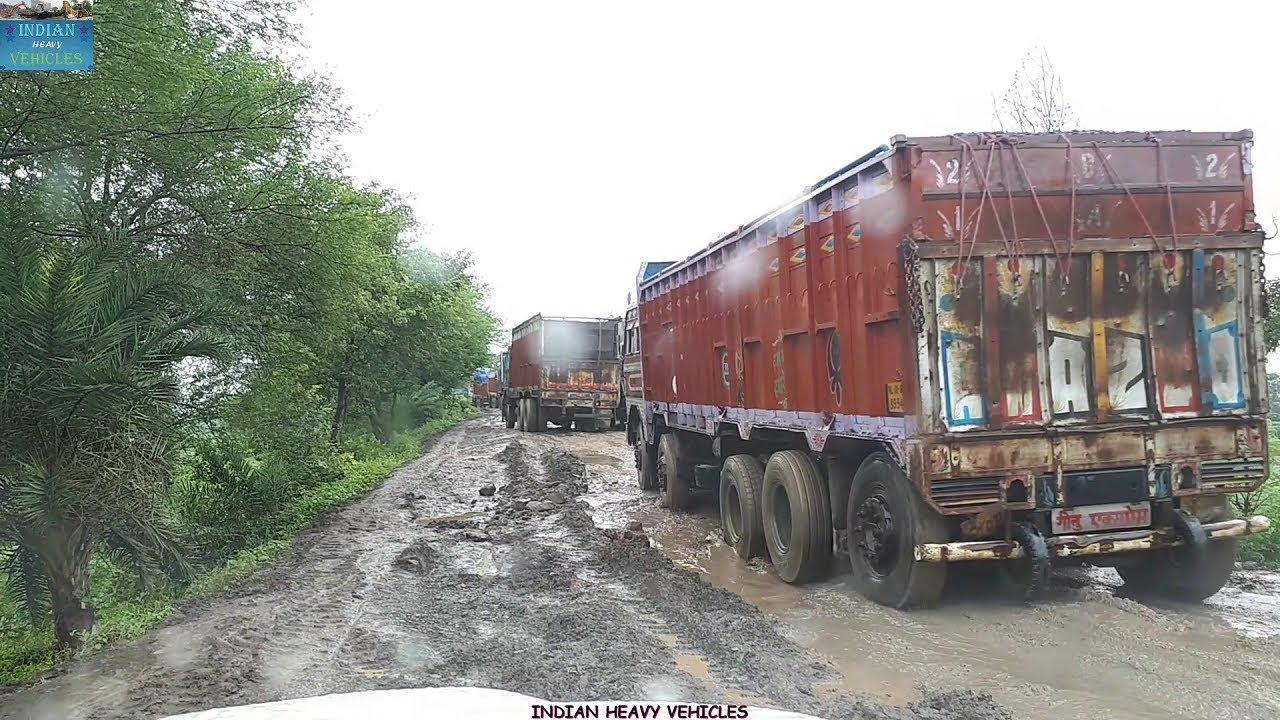truck: (629, 125, 1268, 600), (493, 306, 619, 425)
